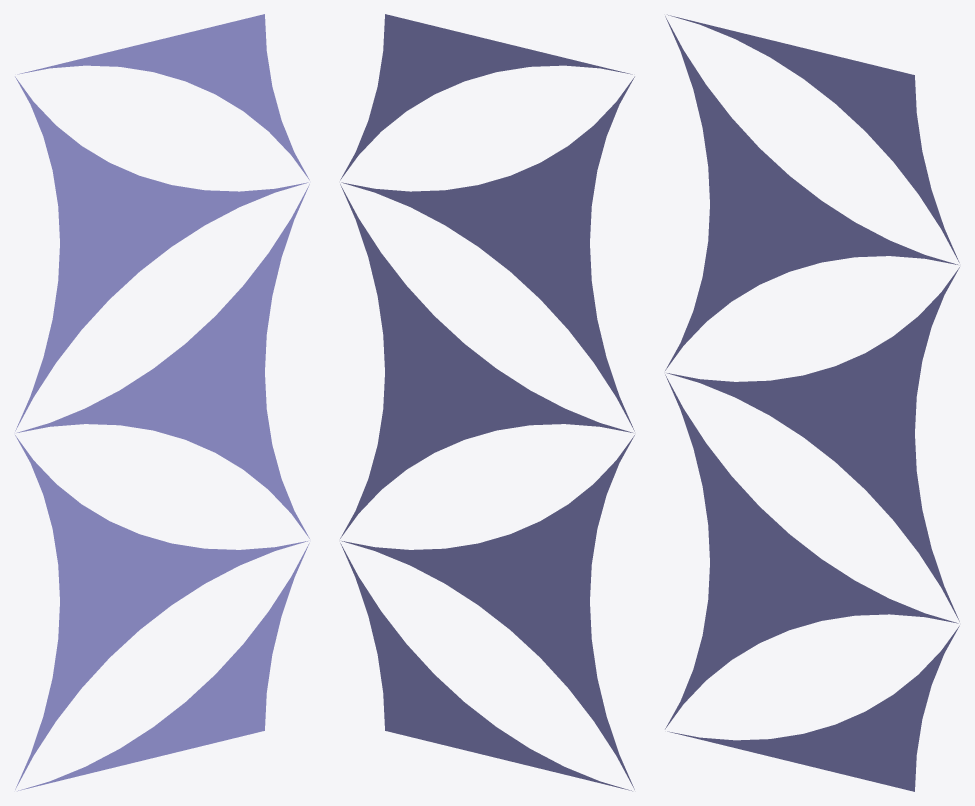
File: flower1a.obj
3 views of the same model, side by side, from view 1: azimuth 30°, elevation 25°; view 2: azimuth 150°, elevation 25°; view 3: azimuth 330°, elevation 25° (orthographic).
Size of the model in its own units: 0.5 by 1.15 by 0.
